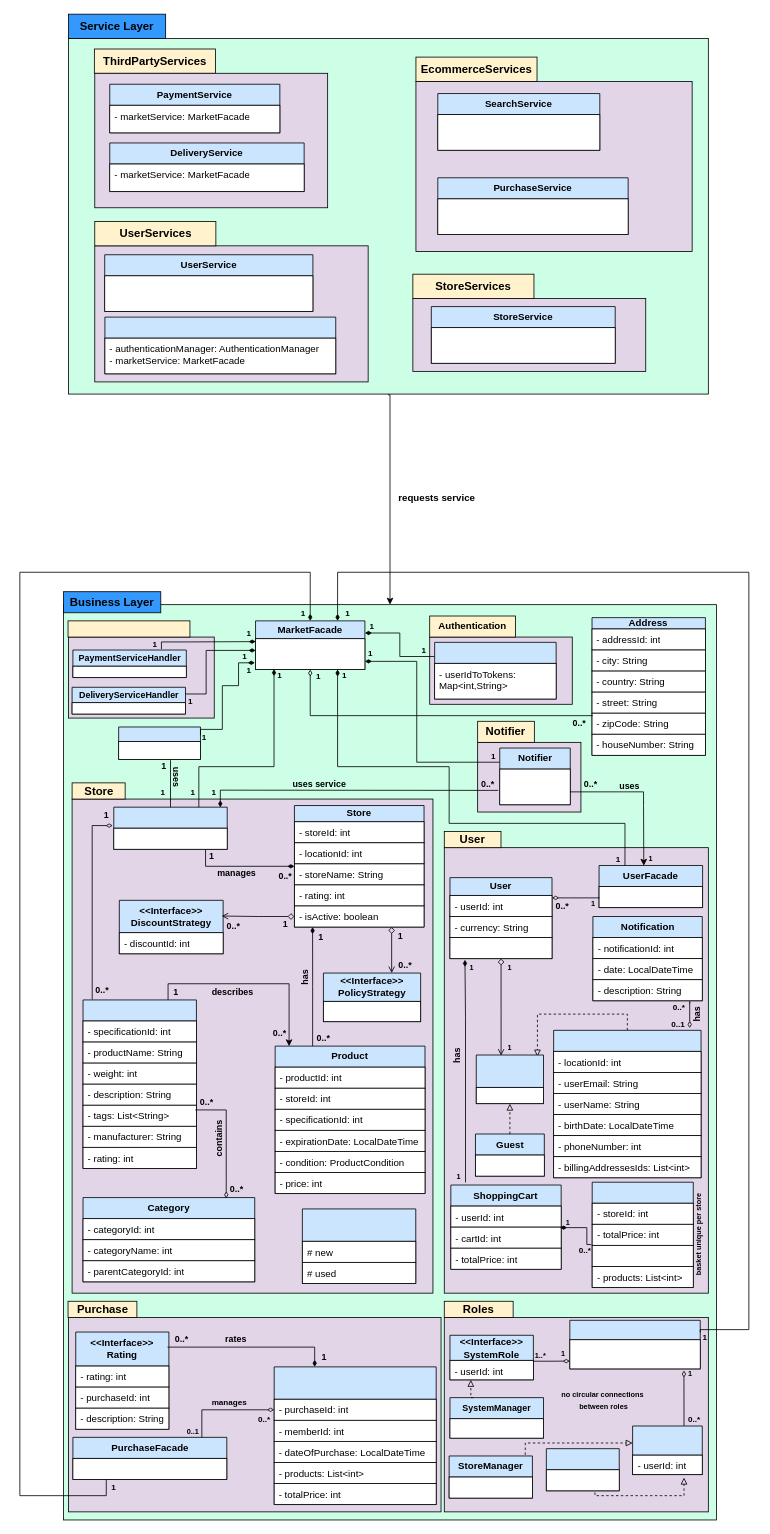
The diagram is 770 pixels wide and 1534 high, and some of its shapes have lost their labels. The shapes that lost their labels are listed below. From the top down, each one's box as (x1, y1, x2, y2) in pixels, then its label:
(437, 114, 600, 150): - searchService: SearchFacade - marketService: MarketFacade
(437, 198, 628, 234): - purchaseService: PurchaseFacade - marketService: MarketFacade
(104, 275, 313, 311): - userService: UserFacade - marketService: MarketFacade
(104, 316, 336, 374): AuthenticationService
(431, 327, 615, 363): - storeService: StoreFacade - marketService: MarketFacade
(67, 620, 190, 637): ThirdPartyHandlers
(434, 642, 556, 699): AuthenticationManager
(118, 726, 200, 759): SearchFacade
(113, 806, 227, 849): StoreFacade
(449, 937, 552, 959): - isMember: boolean
(323, 1001, 421, 1022): - policyId: int
(82, 999, 196, 1168): ProductSpecification
(475, 1054, 544, 1104): <<Interface>> State
(553, 1030, 701, 1178): Member
(302, 1208, 416, 1283): <<enumeration>> ProductCondition
(591, 1181, 693, 1287): ShoppingBasket
(591, 1245, 693, 1266): - basketId: int
(569, 1319, 700, 1369): RoleFacade
(569, 1339, 700, 1369): - storesToRoles: map<int,tree<StoreRole>>
(273, 1366, 436, 1505): <<Interface>> Purchase
(632, 1425, 702, 1475): <<Interface>> StoreRole
(72, 1458, 227, 1479): - purchaseIdCounter: int
(448, 1476, 532, 1498): - permissions: int
(546, 1448, 619, 1491): StoreOwner
